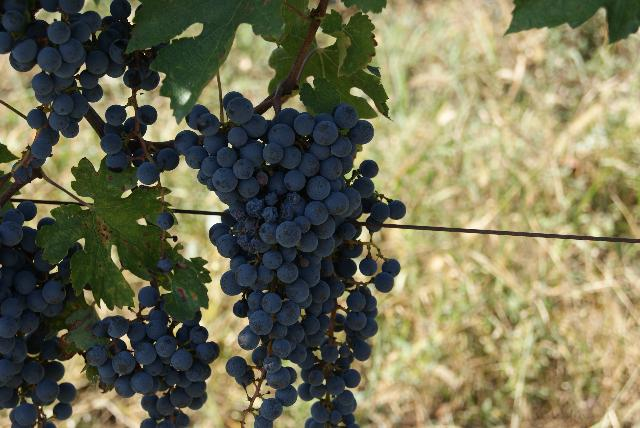grapes: (205, 104, 405, 428), (85, 286, 218, 428), (79, 0, 179, 185), (0, 202, 79, 428)
